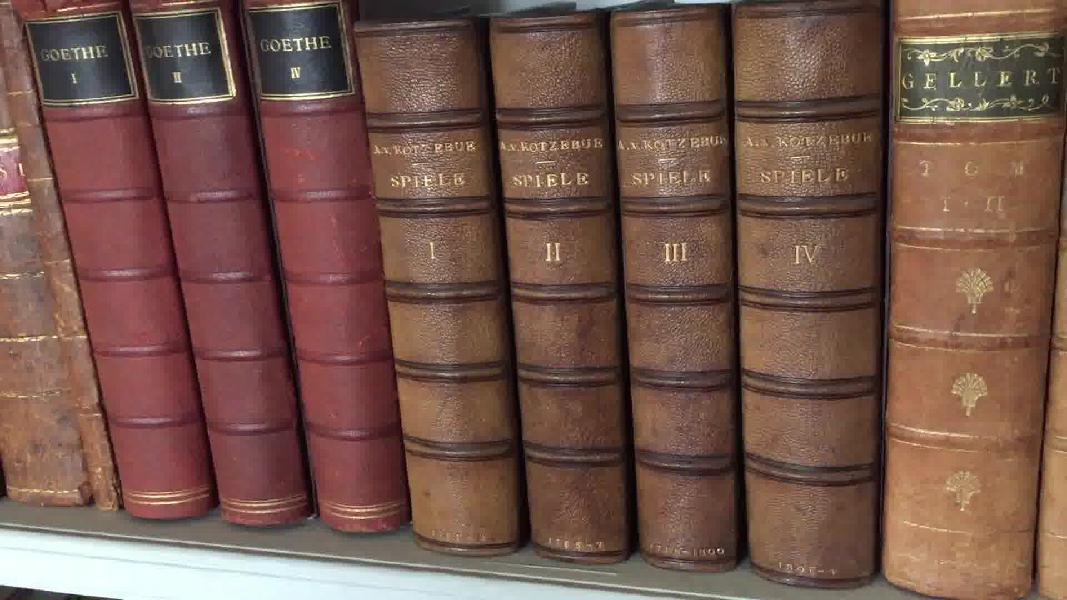Aa6-11_13: (9, 4, 420, 543)
Aa6-14_17: (344, 19, 894, 589)
